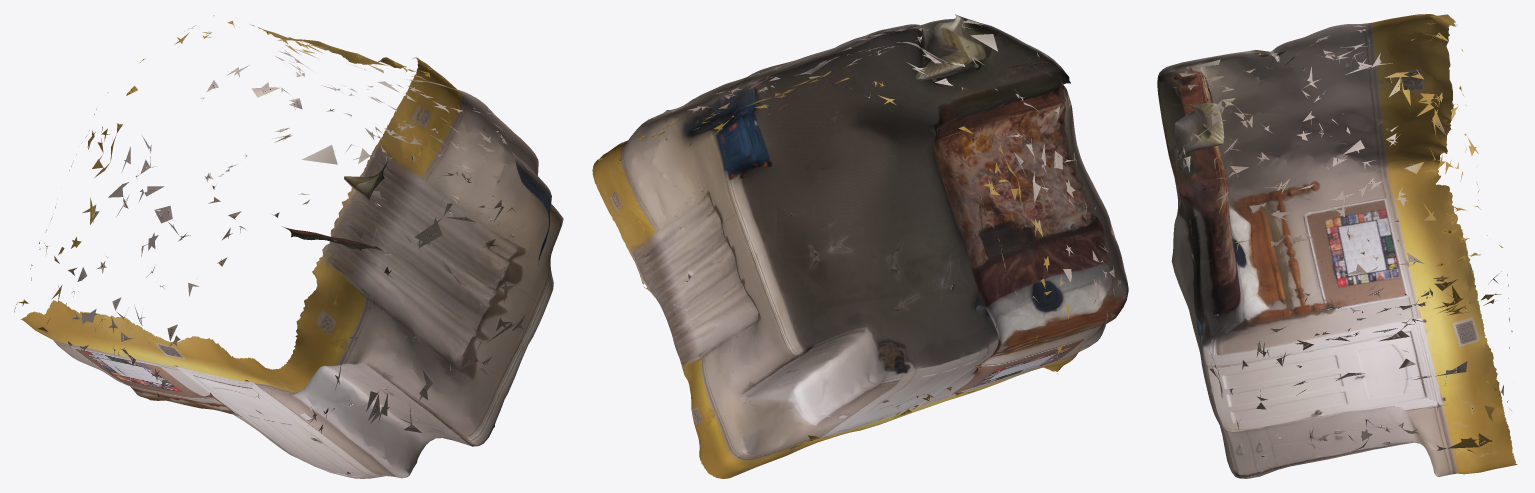
3 views of the same model, side by side, from view 1: azimuth 30°, elevation 25°; view 2: azimuth 150°, elevation 25°; view 3: azimuth 270°, elevation 25° (orthographic). The views are drawn at different scales.
Size of the model in its own units: 5.04 by 4.25 by 3.54.
Materials: 1 (1 with a texture image).
